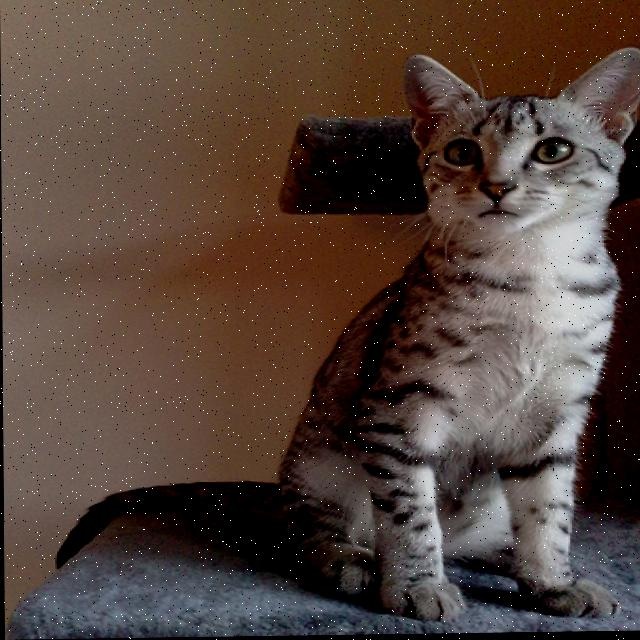Egyptian Mau: (46, 43, 640, 633)
